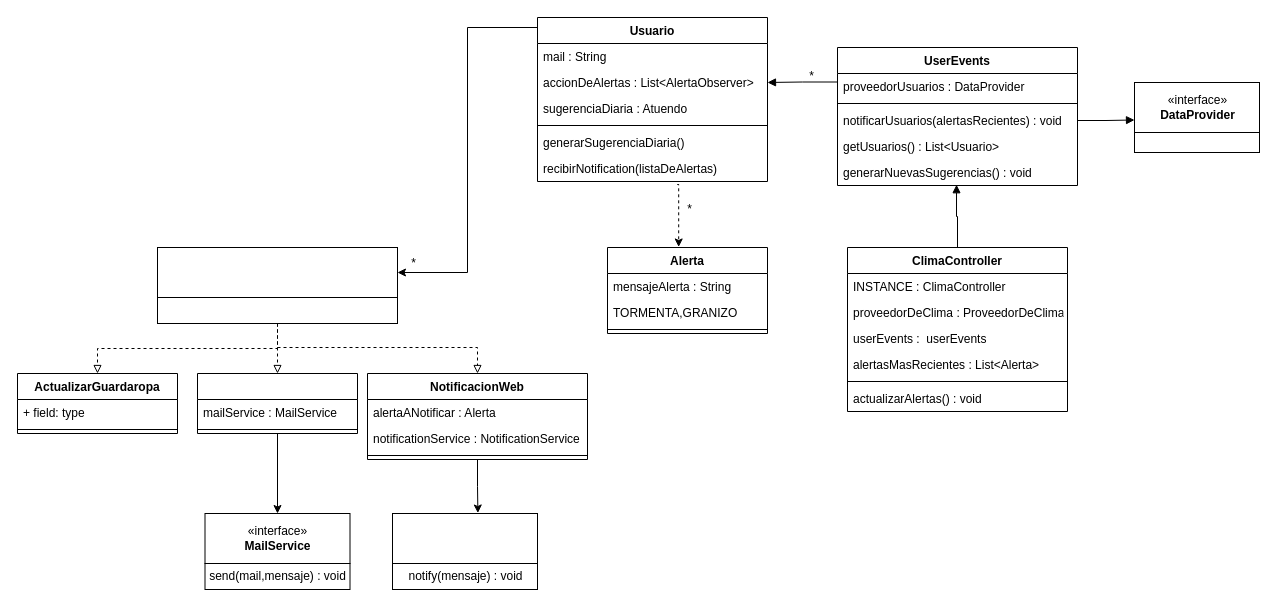
Image size: 1277x607. Some labels were removed from this diagram. The box of each missing label's shape, as (x1, y1, x2, y2) in pixels:
getDataFrom(query): (1134, 132, 1260, 152)
NotificacionMail: (196, 372, 358, 434)
observeAlerta(usuario,List<Alerta>) : void: (156, 296, 398, 324)
«interface» AlertaObserver: (156, 246, 398, 298)
«interface» NotificationService: (392, 512, 538, 564)
